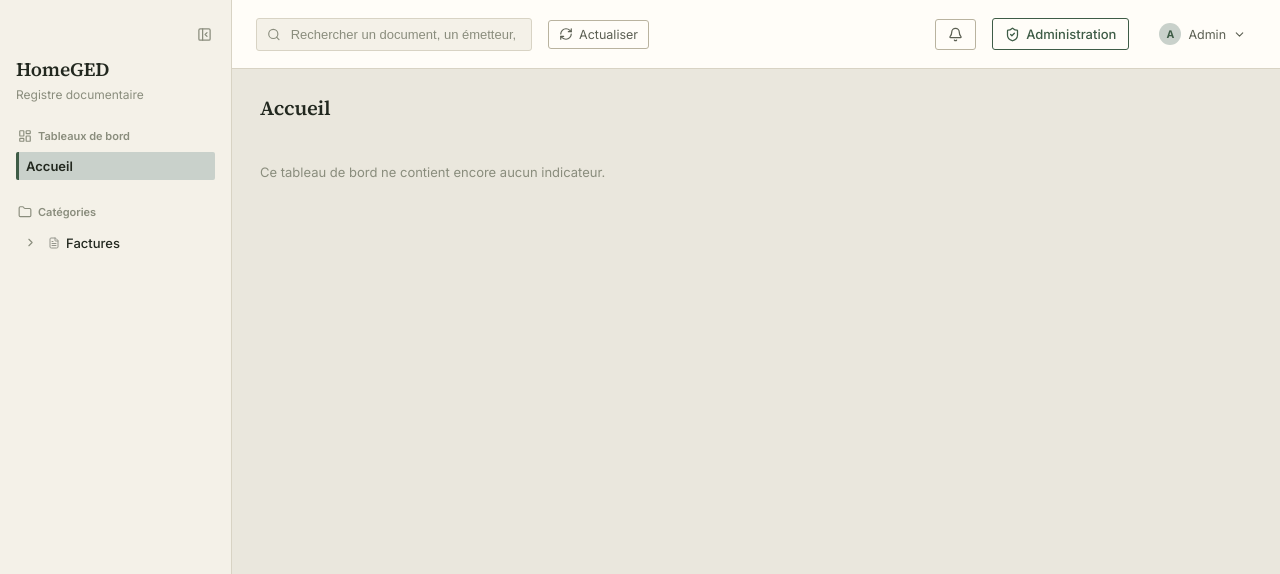
Scenario: sélection dans le registre › décocher la dernière ligne referme la fiche
The width and height of the screenshot is (1280, 574).
Step 1. Click the button "Factures" → (128,242), box [40,228,215,256]
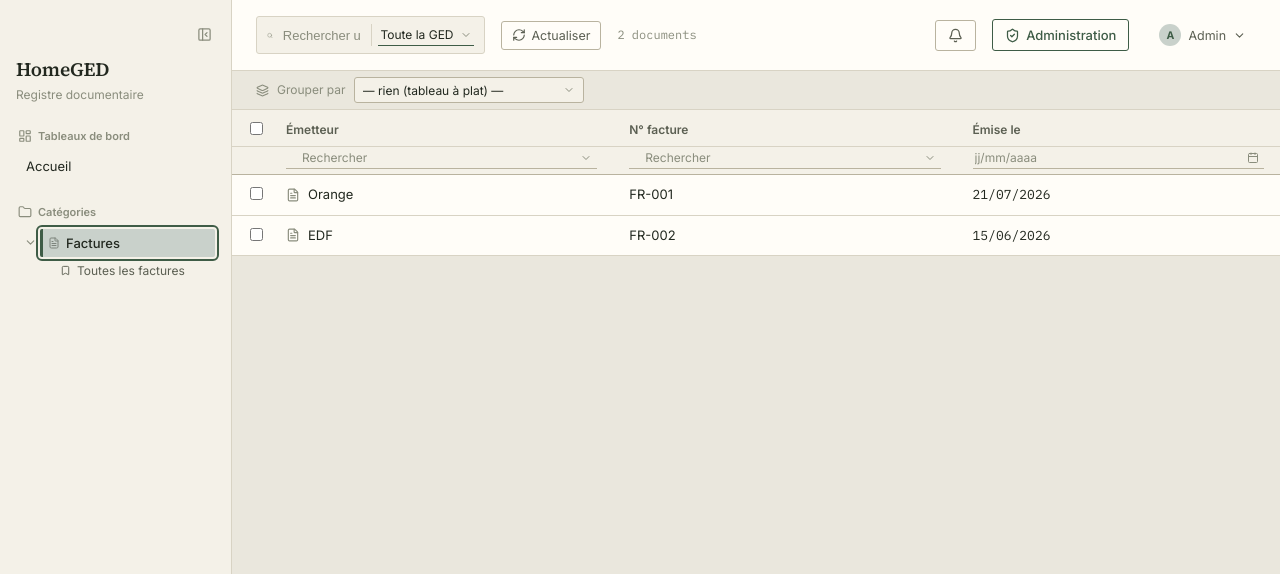
Expected: the text "Orange" is shown
Step 2. Click the text "Orange" → (320,194), box [286,186,353,202]
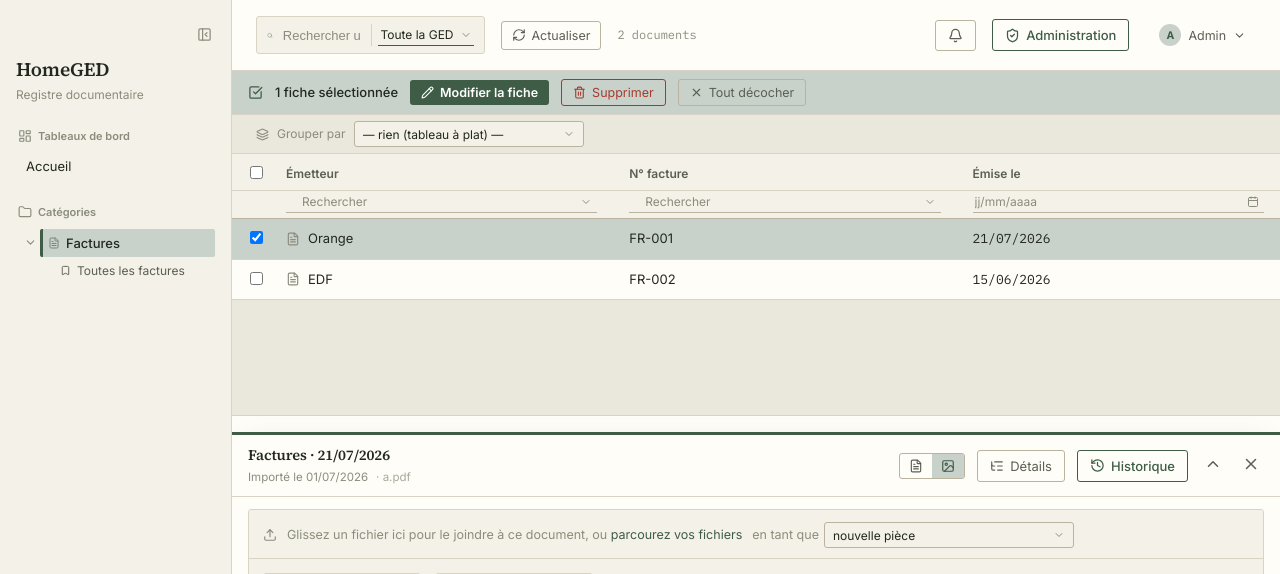
Expected: the text "1 fiche sélectionnée" is shown, [275,83,398,102]
Expected: the button named "Fermer le détail" is shown, [1238,451,1264,480]
Step 3. Click the checkbox named "Sélectionner le document 1" → (256,238), box [250,231,263,244]
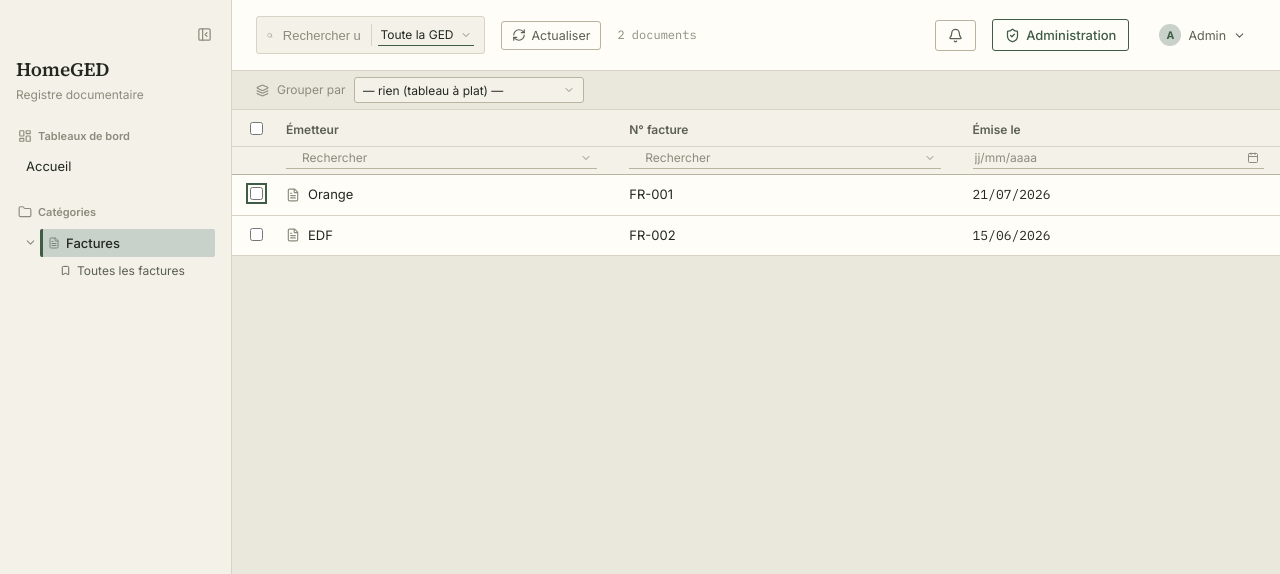
Expected: the text "1 fiche sélectionnée" is gone
